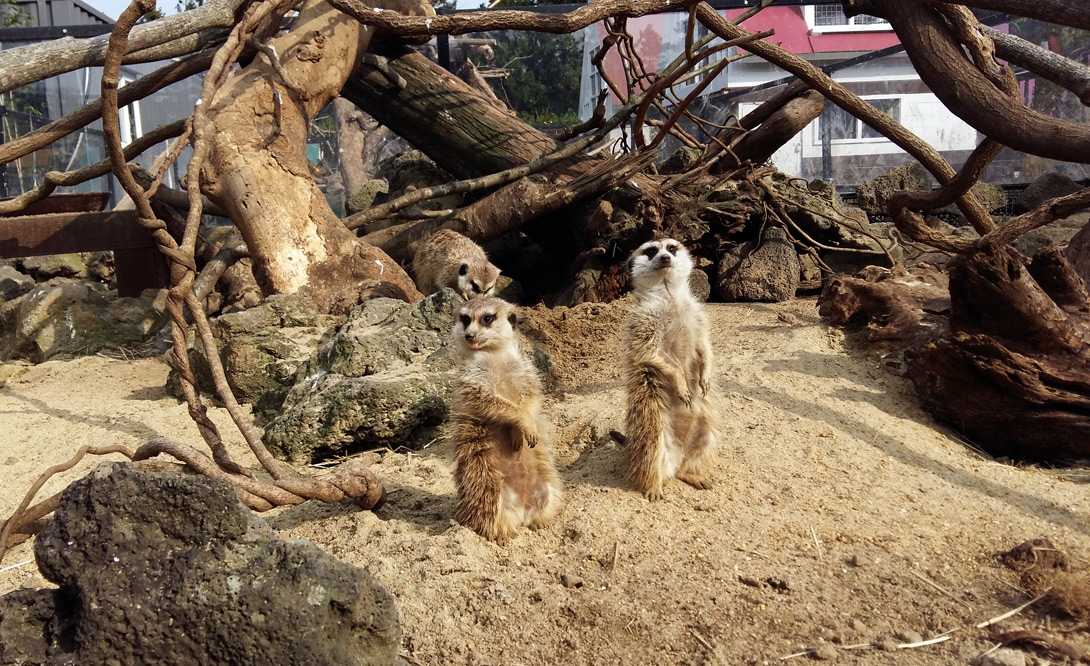meerkat: (437, 292, 578, 573), (600, 224, 737, 497)
